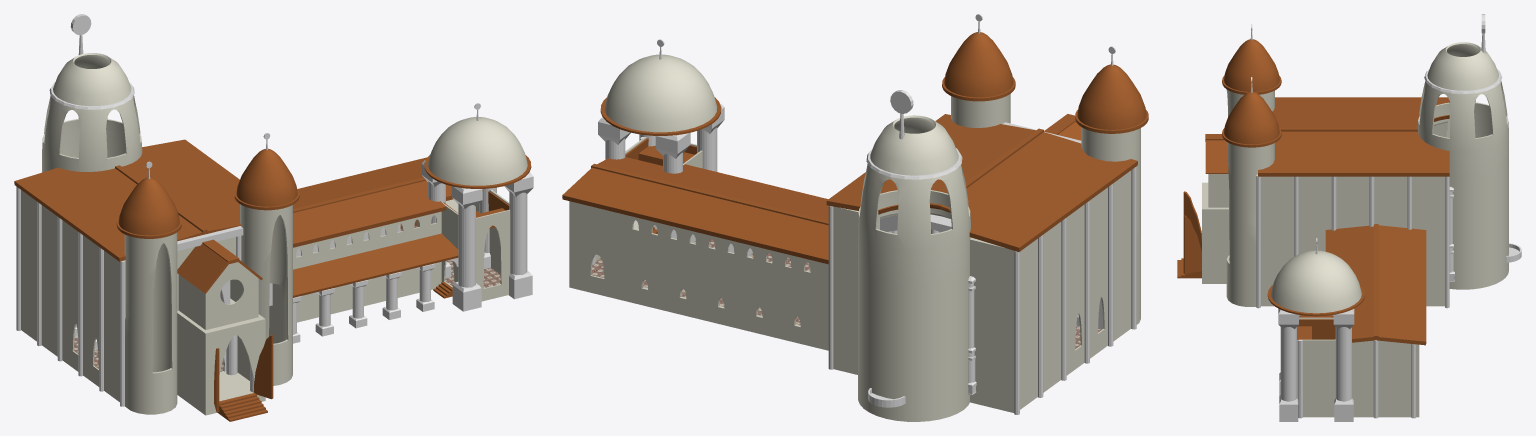
Rendered from church.glb.
3 renders of one model, left to right at view 1: azimuth 30°, elevation 25°; view 2: azimuth 150°, elevation 25°; view 3: azimuth 270°, elevation 25°, orthographic. The views are drawn at different scales.
Parts seen in each view (by area): view 1: WallCandlePlace-col, Walls-col, RoofMain, WallSunAltar-col, WallMain-col, Roof, DormitoryPillar-col, BellRoof, RoofCandlePlace, WallFrontRoom-col, SubRof, MainOutsidePillar.001 (+11 smaller); view 2: WallSunAltar-col, Walls-col, WallMain-col, RoofMain, Roof, MainOutsidePillar.001, BellRoof, RoofCandlePlace, WallCandlePlace-col, DormitoryPillar-col, RoofDetail, PillarFullAltar-col (+6 smaller); view 3: WallSunAltar-col, Walls-col, RoofMain, Roof, WallMain-col, WallCandlePlace-col, BellRoof, RoofCandlePlace, DormitoryPillar-col, MainOutsidePillar.001, WallFrontRoom-col, OpenDoor-col (+10 smaller).
Boxes of the visible parts, x1,y1,x2,y2 form: WallCandlePlace-col: (124,204,292,414); Walls-col: (21,190,282,401); RoofMain: (14,139,240,261); WallSunAltar-col: (42,53,142,172); WallMain-col: (293,189,510,322); Roof: (293,157,482,247); DormitoryPillar-col: (421,160,533,311); BellRoof: (428,117,527,185); RoofCandlePlace: (118,148,297,235); WallFrontRoom-col: (177,298,265,405); SubRof: (293,233,458,297); MainOutsidePillar.001: (16,186,124,406); WallSunAltar-col: (858,115,970,421); Walls-col: (833,170,1131,412); WallMain-col: (569,137,828,350); RoofMain: (826,114,1137,251); Roof: (562,157,828,264); MainOutsidePillar.001: (828,166,1136,414); BellRoof: (604,54,717,132); RoofCandlePlace: (944,32,1146,129); WallCandlePlace-col: (951,94,1140,324); DormitoryPillar-col: (598,103,724,173); RoofDetail: (591,163,828,225); PillarFullAltar-col: (968,276,976,395); WallSunAltar-col: (1417,42,1508,289); Walls-col: (1257,121,1447,306); RoofMain: (1258,97,1449,176); Roof: (1325,225,1426,345); WallMain-col: (1297,317,1419,417); WallCandlePlace-col: (1226,89,1274,306); BellRoof: (1271,250,1361,313); RoofCandlePlace: (1224,39,1279,144); DormitoryPillar-col: (1278,308,1354,421); MainOutsidePillar.001: (1256,174,1449,308); WallFrontRoom-col: (1202,182,1229,274); OpenDoor-col: (1183,191,1201,273).
Bounding box in the file's own units: 69.36 × 42.51 × 51.76.
Materials: 3 (1 with a texture image).
